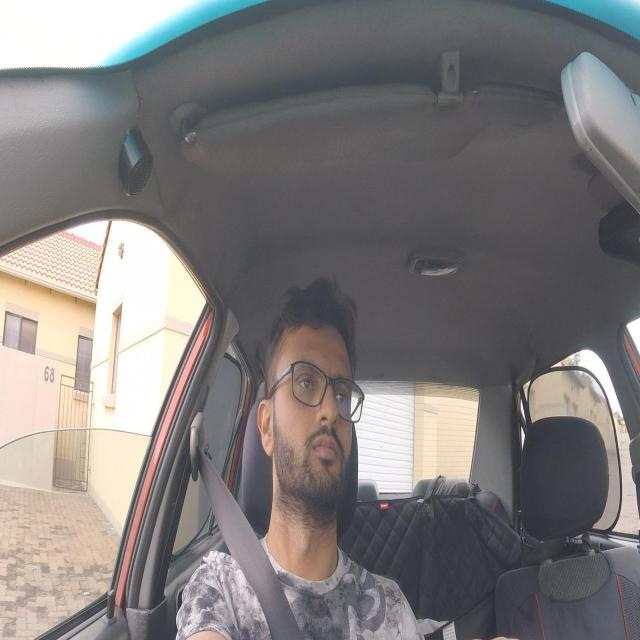open: (292, 357, 322, 415), (328, 371, 353, 416)
